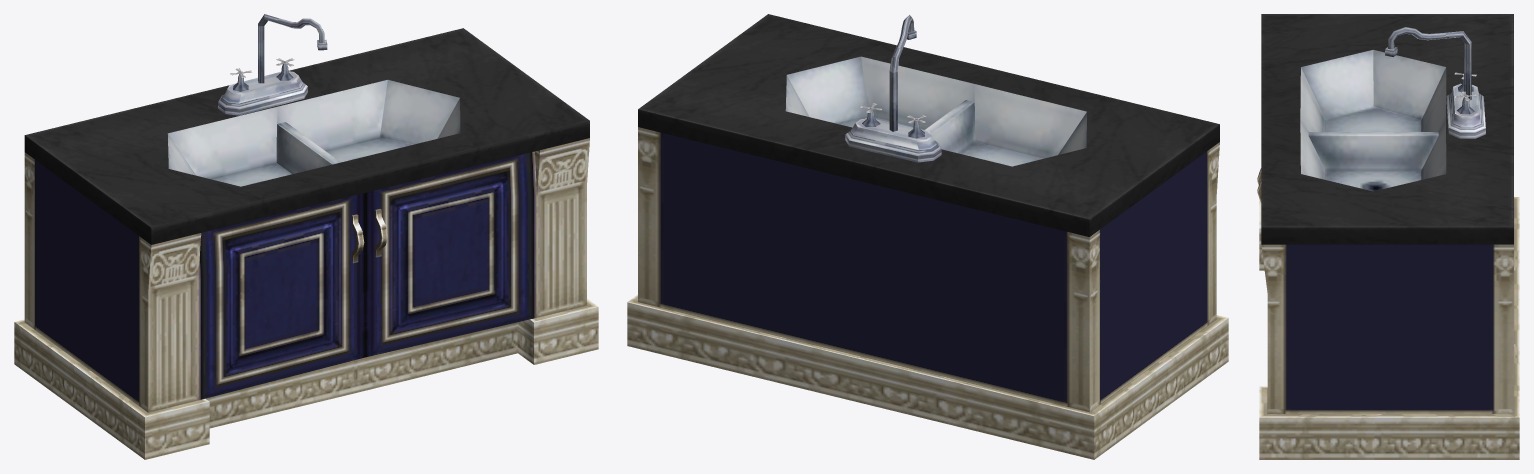
Rendered from furni_0201121.FBX.
3 views of the same model, side by side, from view 1: azimuth 30°, elevation 25°; view 2: azimuth 150°, elevation 25°; view 3: azimuth 270°, elevation 25° (orthographic). The views are drawn at different scales.
Visible parts, largest first — view 1: furni_0201121; view 2: furni_0201121; view 3: furni_0201121.
Boxes of the visible parts, x1,y1,x2,y2 form: furni_0201121: [14, 14, 598, 459]; furni_0201121: [627, 14, 1228, 459]; furni_0201121: [1257, 14, 1519, 459].
Bounding box in the file's own units: 165 × 115 × 83.15.
1 material, 1 textured.
